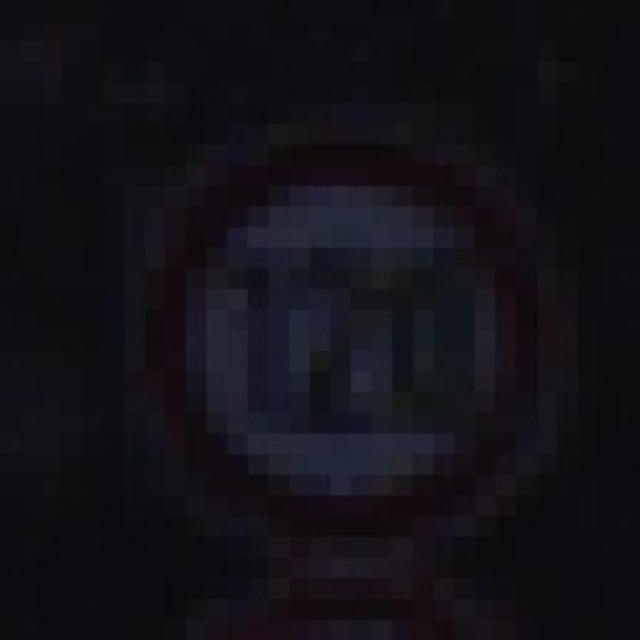Tốc độ tối đa cho phép 120km/h: (151, 137, 554, 548)
